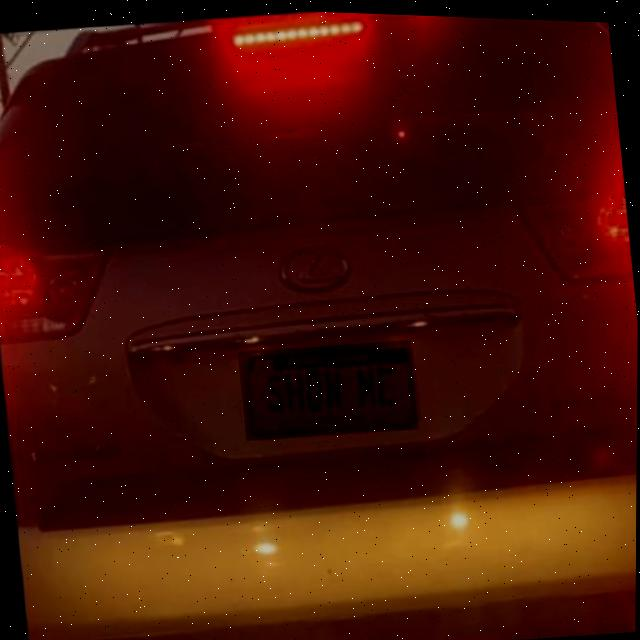LicensePlate: (239, 338, 416, 434)
